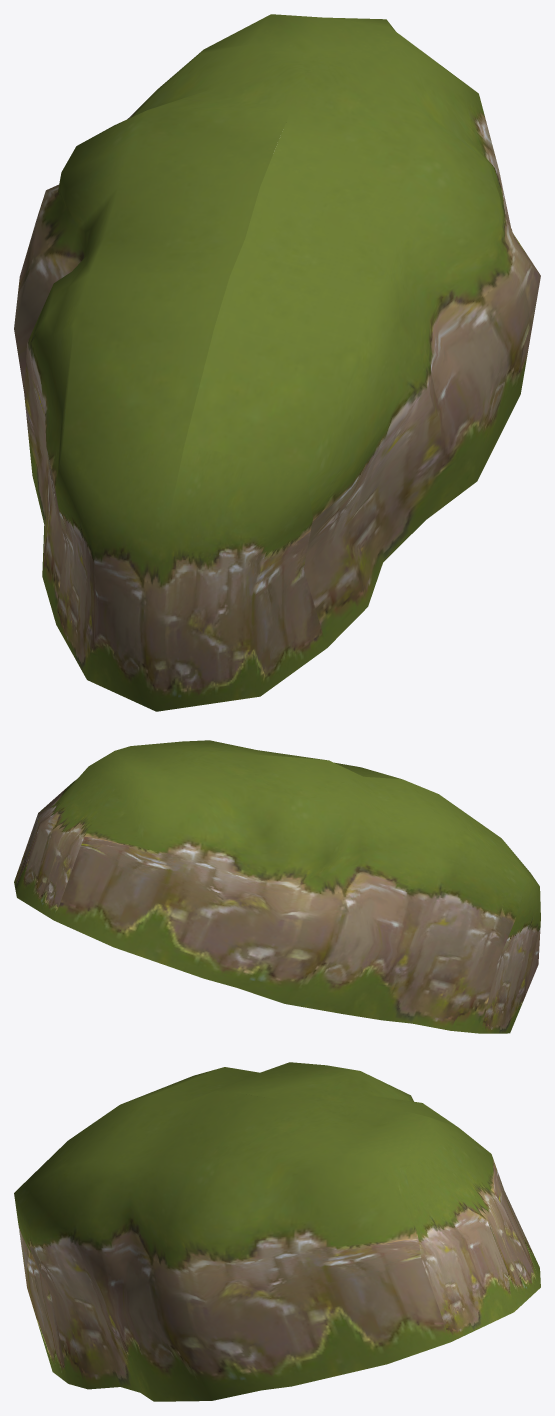
Rendered from gaoyuan_bianyuan_04 (12).fbx.
3 renders of one model, top to bottom at view 1: azimuth 30°, elevation 25°; view 2: azimuth 150°, elevation 25°; view 3: azimuth 270°, elevation 25°, orthographic. The views are drawn at different scales.
Visible parts, largest first — view 1: gaoyuan_bianyuan_04 (12); view 2: gaoyuan_bianyuan_04 (12); view 3: gaoyuan_bianyuan_04 (12).
Boxes of the visible parts, box(x1,y1,x2,y2) form: gaoyuan_bianyuan_04 (12): box(14, 14, 540, 711); gaoyuan_bianyuan_04 (12): box(14, 740, 540, 1033); gaoyuan_bianyuan_04 (12): box(14, 1062, 540, 1401).
Size of the model in its own units: 4.04 by 2.96 by 3.97.
